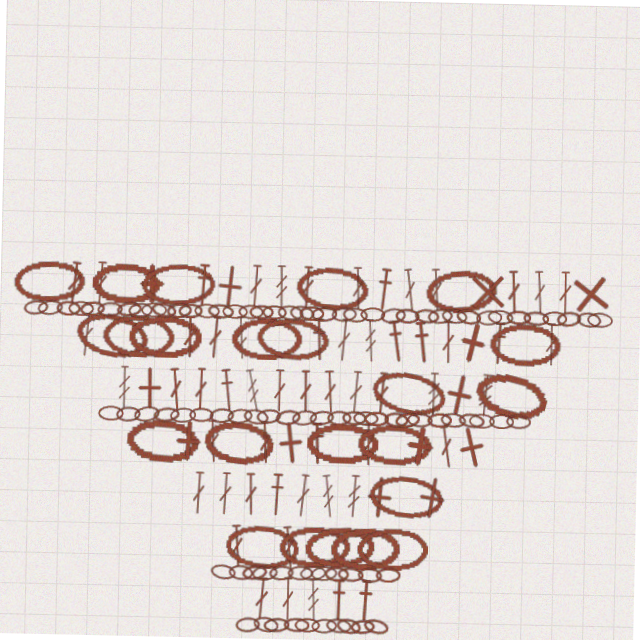chain: (472, 362, 553, 421), (370, 364, 450, 420), (73, 312, 153, 367), (204, 419, 280, 469), (371, 471, 448, 520), (229, 524, 306, 572), (255, 316, 332, 364), (294, 264, 370, 312), (423, 264, 499, 312), (127, 420, 202, 467), (140, 265, 216, 311), (308, 524, 382, 571), (359, 421, 434, 466), (283, 525, 357, 570), (12, 265, 86, 310), (334, 525, 407, 570), (102, 317, 175, 362), (489, 318, 563, 362), (128, 318, 202, 361), (308, 422, 381, 465), (231, 318, 304, 361), (90, 266, 161, 310), (361, 526, 433, 569), (135, 408, 163, 427), (259, 616, 286, 635), (342, 616, 369, 635), (369, 616, 396, 635), (150, 304, 177, 323), (455, 304, 482, 323), (215, 565, 242, 583), (257, 565, 284, 583), (155, 409, 182, 427), (293, 409, 320, 427), (396, 409, 423, 427), (247, 565, 273, 583), (229, 409, 255, 427), (245, 409, 271, 427), (277, 409, 303, 427), (311, 409, 337, 427), (380, 305, 406, 323), (576, 305, 602, 323), (332, 617, 359, 634), (305, 565, 332, 582), (316, 565, 343, 582), (442, 409, 469, 426), (460, 409, 487, 426), (207, 305, 234, 322), (277, 305, 304, 322), (441, 305, 468, 322), (487, 305, 514, 322), (274, 565, 300, 582), (211, 409, 237, 426), (258, 409, 284, 426), (23, 305, 49, 322), (37, 305, 63, 322), (79, 305, 105, 322), (116, 305, 142, 322), (166, 305, 192, 322), (289, 305, 315, 322), (427, 305, 453, 322), (556, 305, 582, 322), (270, 618, 296, 634), (318, 618, 344, 634), (343, 566, 369, 582), (172, 410, 198, 426), (409, 410, 435, 426), (97, 306, 123, 322), (311, 306, 337, 322), (331, 306, 357, 322), (342, 306, 368, 322), (414, 306, 440, 322), (476, 306, 502, 322), (523, 306, 549, 322), (587, 306, 613, 322), (242, 618, 267, 634), (357, 618, 382, 634), (234, 566, 259, 582), (363, 566, 388, 582), (118, 410, 143, 426), (386, 410, 411, 426), (128, 306, 153, 322), (395, 306, 420, 322), (290, 618, 316, 633), (301, 618, 327, 633), (293, 566, 319, 581), (100, 410, 126, 425), (355, 410, 381, 425), (471, 410, 497, 425), (68, 306, 94, 321), (141, 306, 167, 321), (194, 306, 220, 321), (222, 306, 248, 321), (238, 306, 264, 321), (330, 566, 355, 581), (381, 566, 406, 581), (191, 410, 216, 425), (329, 410, 354, 425), (344, 410, 369, 425), (366, 410, 391, 425), (429, 410, 454, 425), (491, 410, 516, 425), (508, 410, 533, 425), (56, 306, 81, 321), (178, 306, 203, 321), (249, 306, 274, 321), (262, 306, 287, 321), (299, 306, 324, 321), (360, 306, 385, 321), (506, 306, 531, 321), (542, 306, 567, 321)
double: (439, 422, 459, 466), (64, 266, 83, 310), (400, 266, 419, 310), (285, 526, 303, 570), (298, 474, 316, 518), (78, 318, 96, 362), (169, 370, 186, 414), (375, 370, 392, 414), (259, 578, 276, 621), (207, 422, 224, 465), (323, 370, 340, 413), (349, 370, 366, 413), (207, 318, 224, 361), (336, 318, 353, 361), (234, 526, 250, 569), (221, 474, 237, 517), (260, 422, 276, 465), (92, 266, 108, 309), (247, 266, 263, 309), (428, 266, 444, 309), (505, 266, 521, 309), (531, 266, 547, 309), (195, 474, 210, 517), (247, 474, 262, 517), (195, 370, 210, 413), (183, 318, 198, 361), (441, 318, 456, 361), (299, 266, 314, 309), (350, 266, 365, 309), (557, 266, 572, 309), (287, 578, 301, 621), (364, 422, 378, 465), (274, 370, 288, 413), (300, 370, 314, 413), (545, 318, 559, 361)
half_double: (385, 317, 408, 362), (412, 318, 433, 362), (373, 266, 394, 310), (219, 370, 239, 414), (271, 474, 290, 517), (490, 318, 509, 361), (193, 266, 212, 309), (362, 578, 380, 621), (311, 422, 329, 465), (336, 578, 353, 621), (311, 318, 328, 361)
single: (448, 418, 500, 470), (448, 314, 499, 365), (436, 367, 486, 417), (411, 471, 460, 520), (399, 420, 447, 468), (566, 264, 614, 312), (270, 420, 317, 467), (206, 265, 252, 311), (361, 473, 406, 519), (168, 421, 213, 466), (465, 266, 509, 310), (130, 370, 173, 413), (130, 266, 173, 309)
treble: (244, 370, 266, 414), (323, 474, 341, 518), (478, 370, 496, 414), (350, 474, 366, 517), (234, 318, 250, 361), (363, 318, 379, 361), (312, 578, 327, 621), (428, 370, 443, 413), (119, 370, 133, 413), (274, 266, 288, 309)
